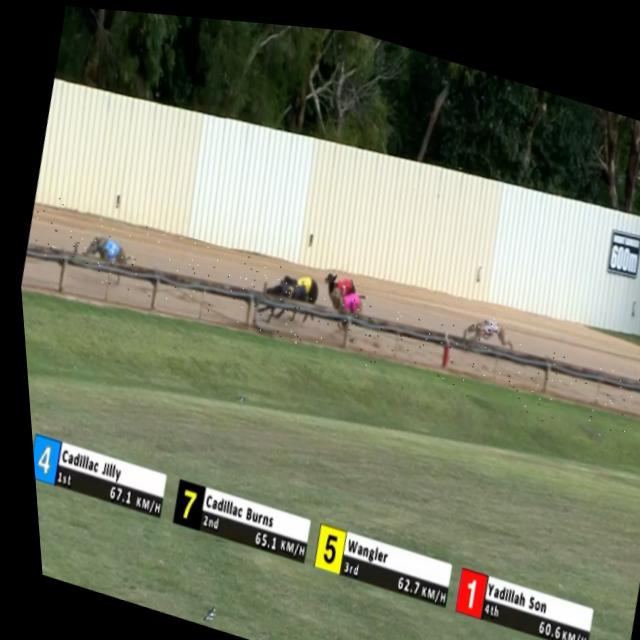dog_eight: (335, 287, 358, 313)
dog_five: (288, 270, 308, 294)
dog_four: (94, 234, 118, 264)
dog_one: (329, 267, 350, 298)
dog_seven: (275, 277, 294, 302)
dog_two: (472, 305, 494, 335)
rail: (21, 245, 640, 384)
